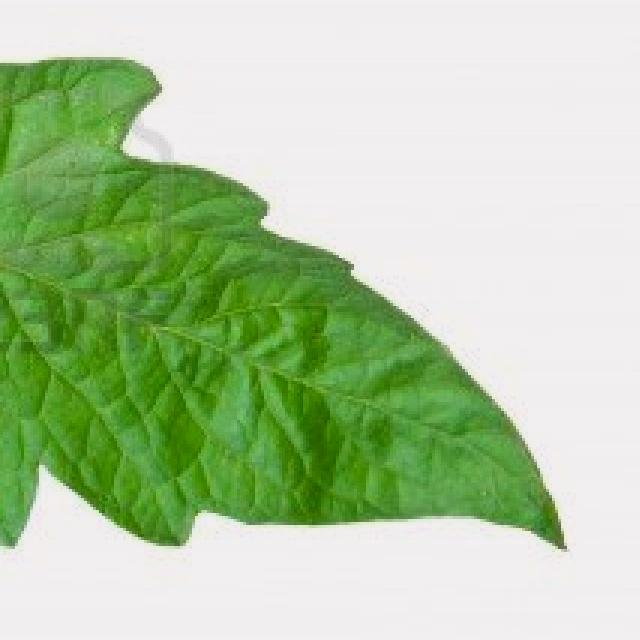Tomato leaf: (0, 53, 614, 590), (0, 0, 20, 107)
